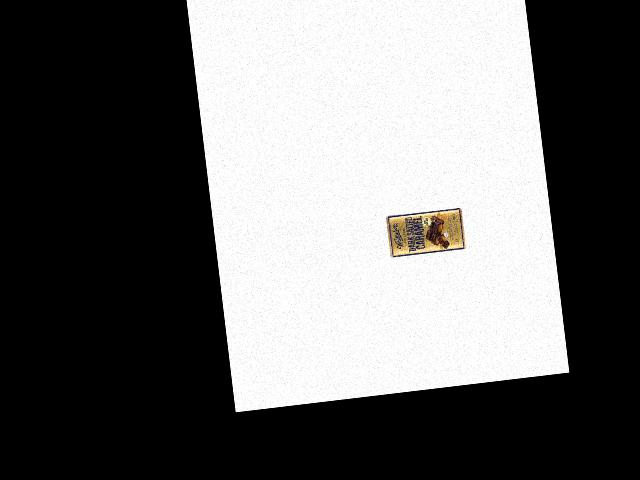chocolate: (386, 203, 468, 259)
